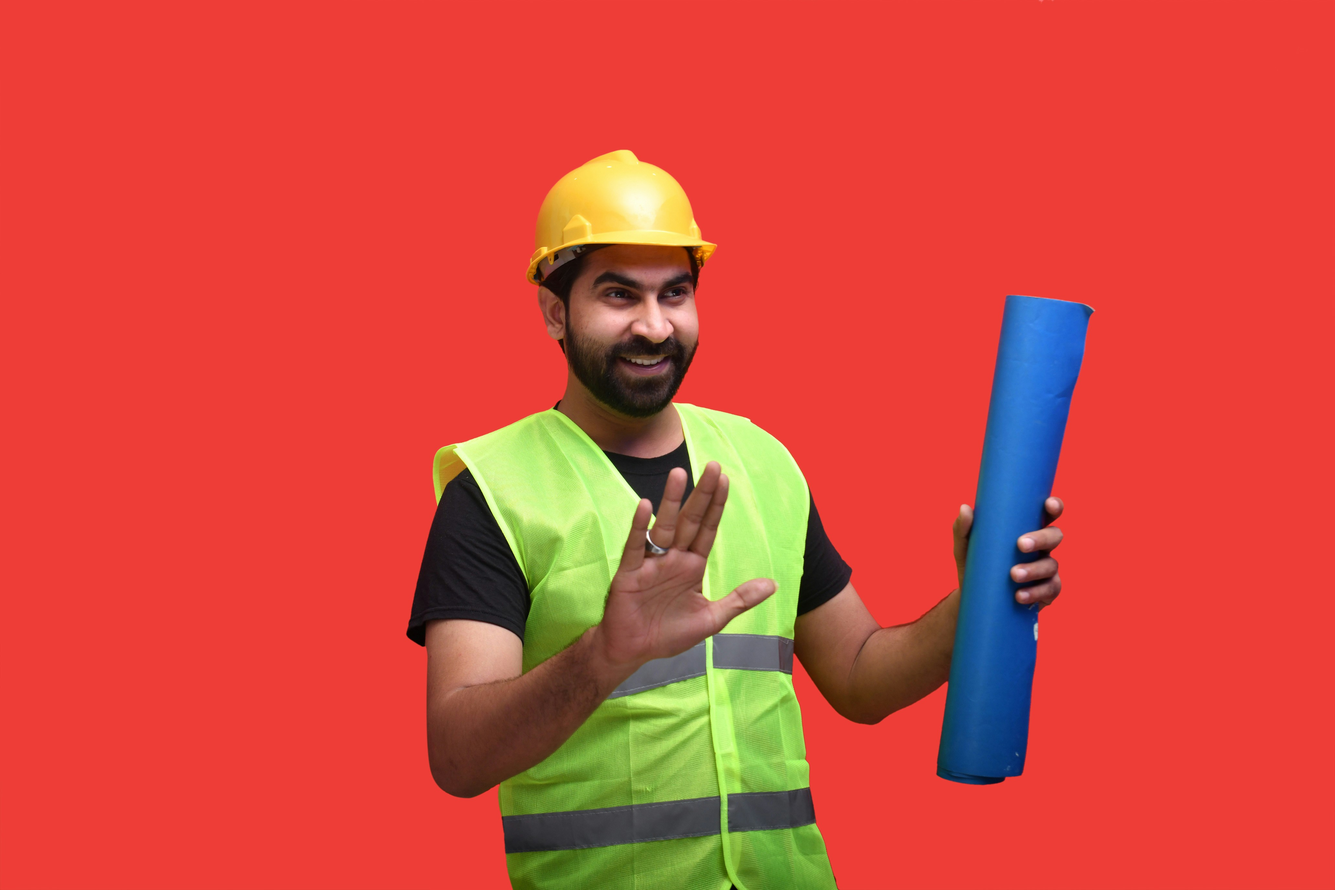Helmet: (527, 145, 716, 422)
